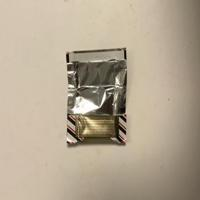plastic: (66, 46, 127, 147)
